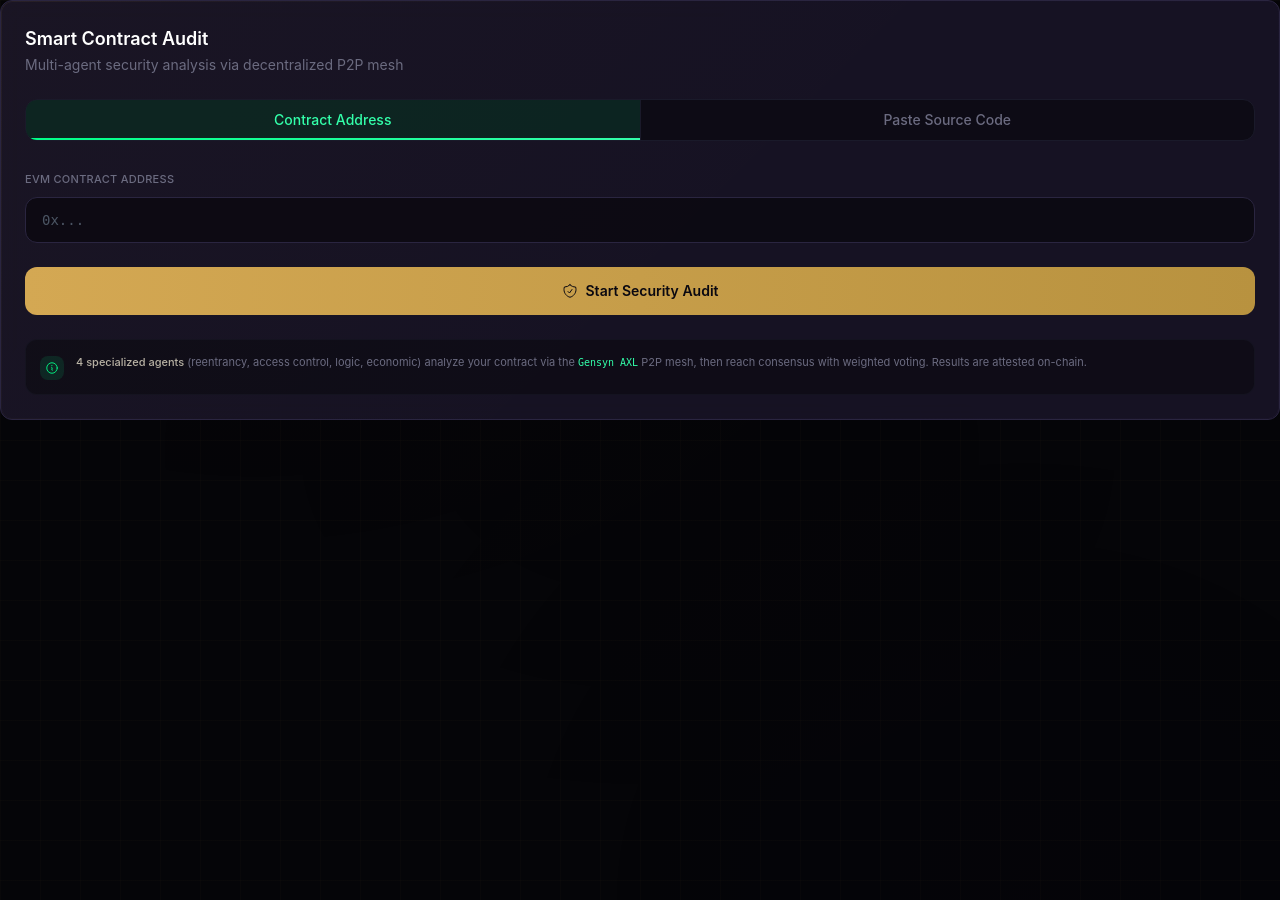
Test: AuditConsole › validates invalid address format
Type "invalid-address" into the field with placeholder "0x..." at (640, 220), box top-left (25, 197), bottom-right (1255, 243)
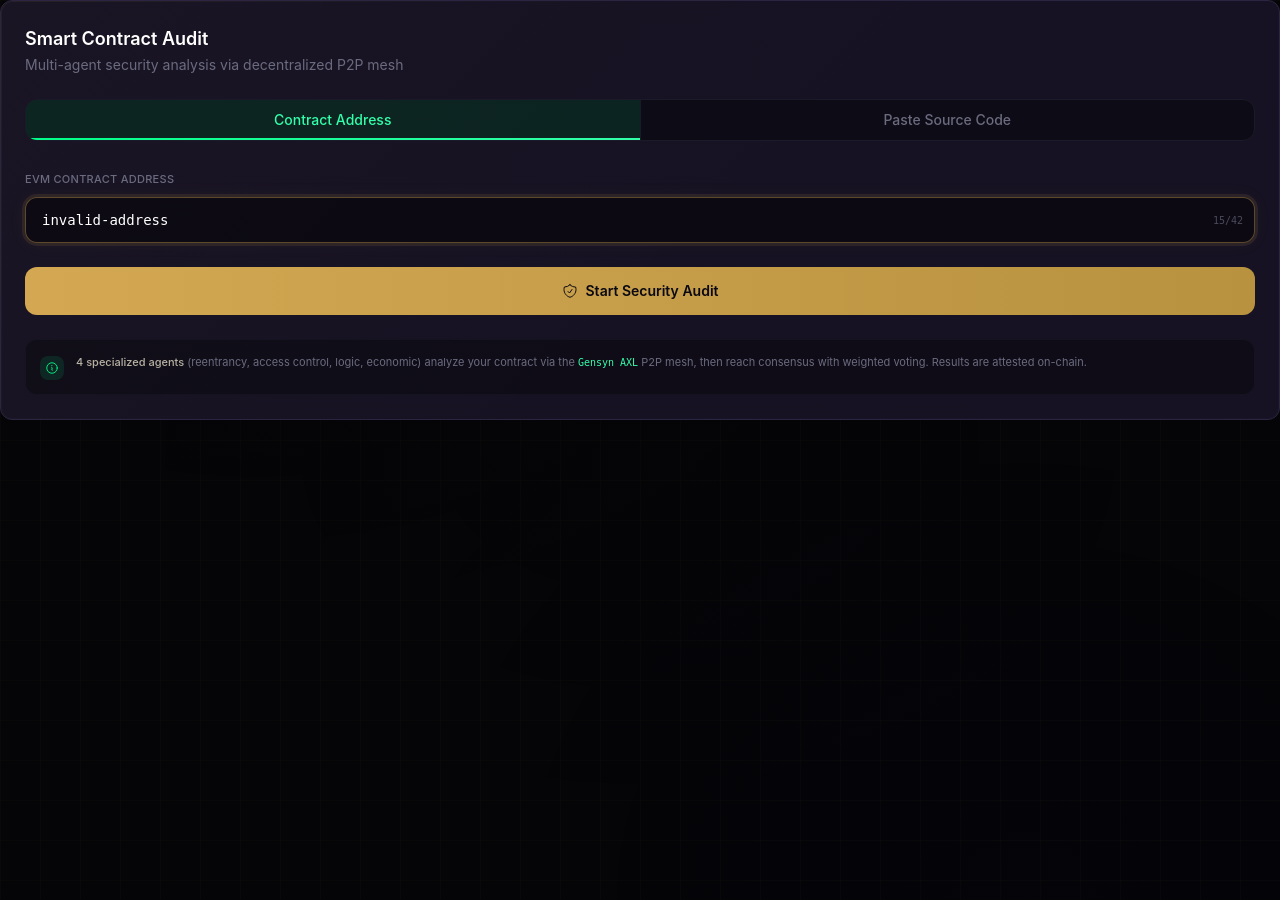
Click the button "Start Security Audit" at (640, 291), box top-left (25, 267), bottom-right (1255, 315)
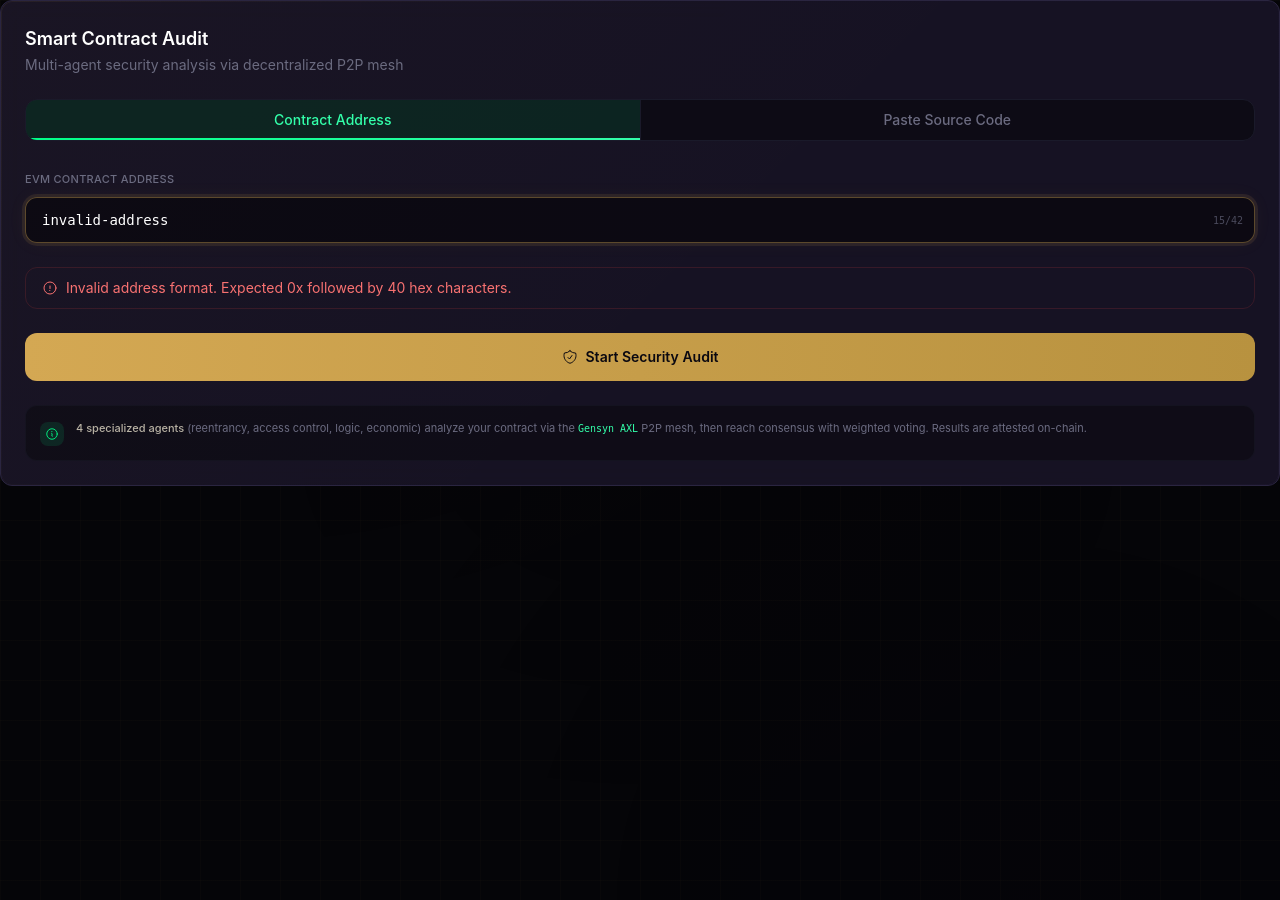
Check: the text "Invalid address format" is shown, box top-left (66, 279), bottom-right (512, 296)
